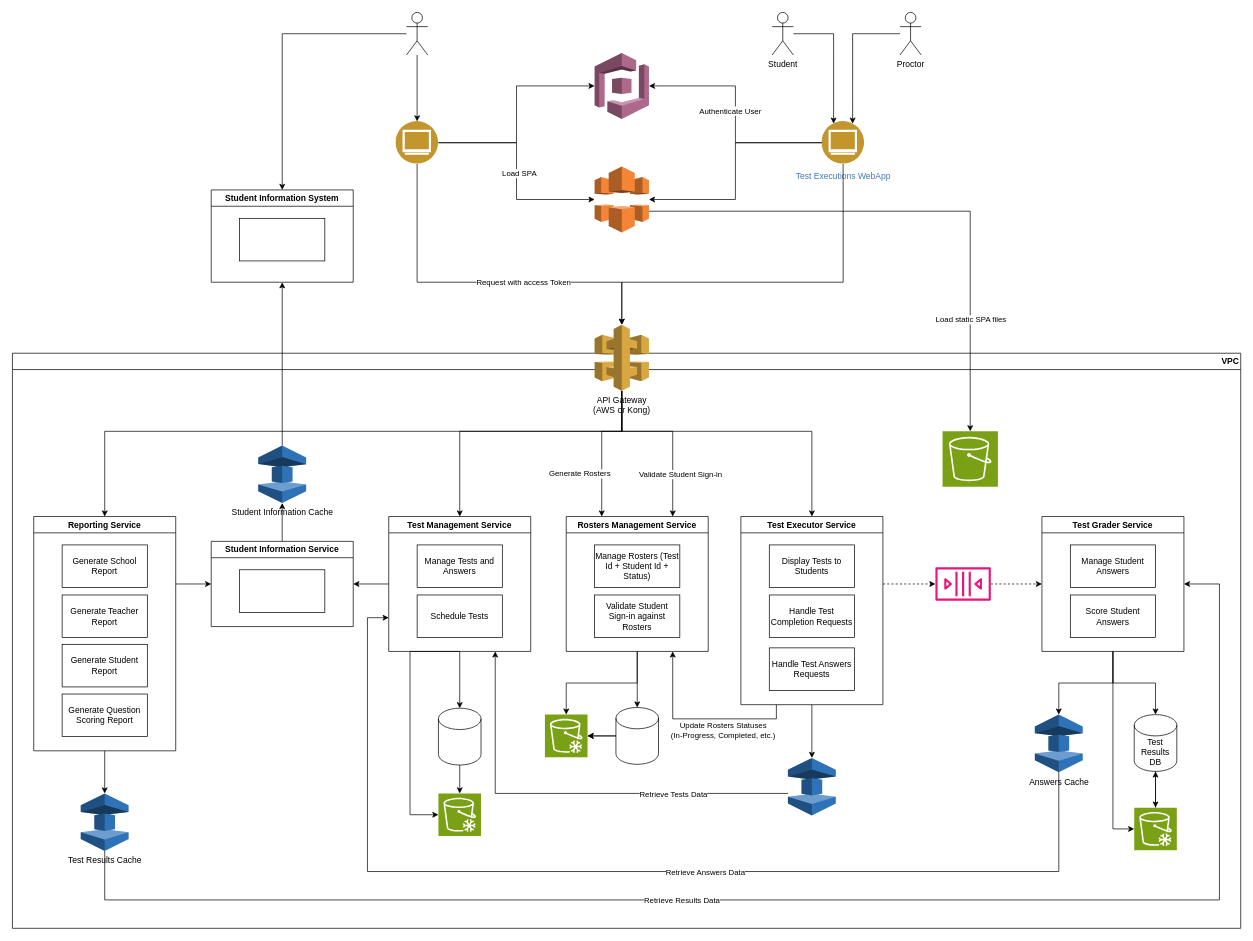
Image size: 1253x941. Some labels were removed from this diagram. The shapes that lost their labels are listed below. From the top down, each one's centre as x and y in pixels, then its label:
At point (417, 33): "Admin".
At point (621, 85): "IAM Provider (AWS Cognito or Okta)".
At point (416, 142): "Tests Administration WebApp".
At point (621, 199): "CDN".
At point (282, 239): "Manage Students, Schools, Teachers data".
At point (970, 459): "S3".
At point (282, 590): "Fetch and cache data from external SIS".
At point (962, 583): "Student Answers Topic (Kafka for better scalability)".
At point (459, 736): "Tests and Answers DB".
At point (566, 735): "Rosters Archival Storage".
At point (637, 735): "Rosters DB".
At point (811, 786): "Tests Cache".
At point (459, 814): "Tests and Answers Archival Storage".
At point (1155, 828): "Test Results Archival Storage".
